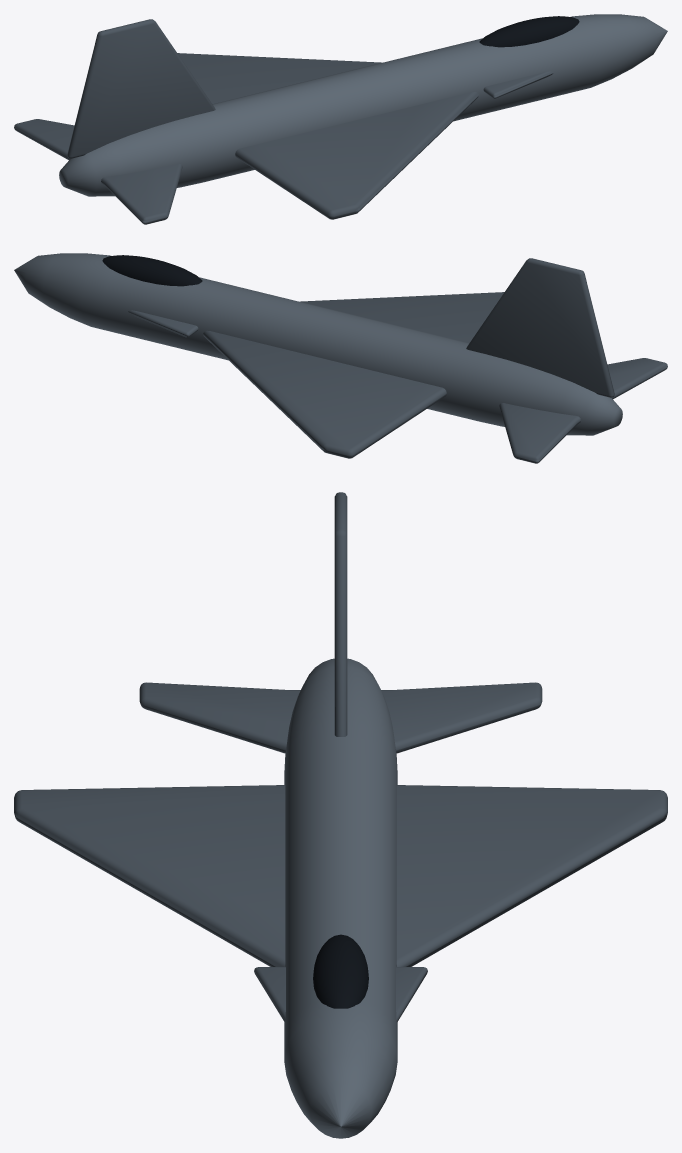
Rendered from fighter_mil.glb.
The picture shows the model from 3 angles, top to bottom: view 1: azimuth 30°, elevation 25°; view 2: azimuth 150°, elevation 25°; view 3: azimuth 270°, elevation 25°; orthographic projection. The views are drawn at different scales.
Parts seen in each view (by area): view 1: fus, wing, fin, stab, glass, strake; view 2: fus, wing, fin, stab, glass, strake; view 3: wing, fus, stab, fin, glass, strake.
Part boxes in pixels (x1,y1,x2,y2): fus: (59, 14, 667, 196); wing: (177, 53, 478, 219); fin: (67, 19, 215, 158); stab: (14, 119, 182, 224); glass: (479, 16, 579, 47); strake: (483, 71, 553, 98); fus: (14, 253, 622, 435); wing: (203, 292, 504, 458); fin: (466, 258, 614, 397); stab: (499, 358, 667, 463); glass: (102, 255, 202, 286); strake: (128, 310, 198, 337); wing: (14, 785, 667, 966); fus: (284, 658, 397, 1138); stab: (139, 682, 542, 753); fin: (334, 492, 347, 736); glass: (313, 934, 368, 1008); strake: (254, 967, 427, 1022).
Bounding box in the file's own units: 17 × 4.6 × 10.4.
